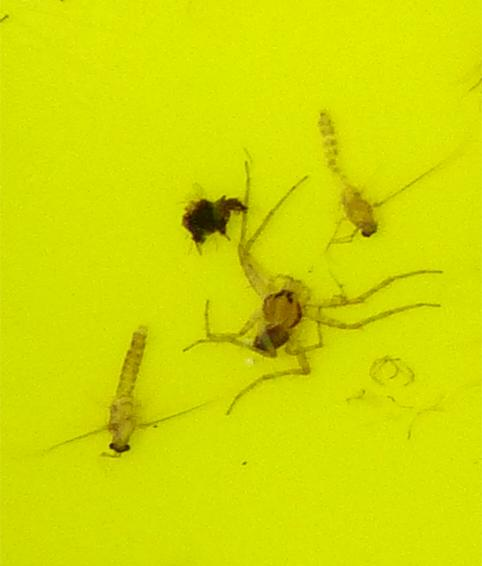Araneae: (182, 161, 442, 415)
Ephemeroptera: (312, 100, 382, 244), (100, 319, 150, 466)
